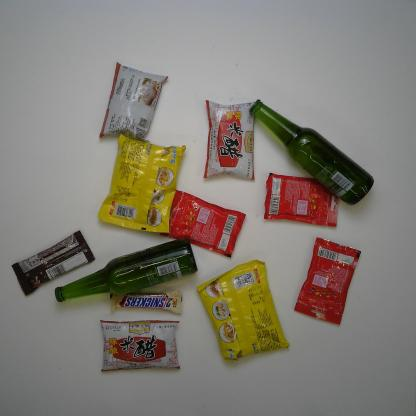Alcohol: (248, 99, 374, 205), (54, 237, 198, 304)
Candy: (292, 236, 362, 326), (158, 189, 248, 258), (263, 173, 340, 229)
Chocolate: (12, 230, 96, 297), (107, 288, 184, 316)
Instant Noodles: (196, 258, 291, 362), (97, 133, 187, 234)
Seasoner: (99, 61, 170, 142), (98, 318, 183, 372), (204, 99, 255, 181)
